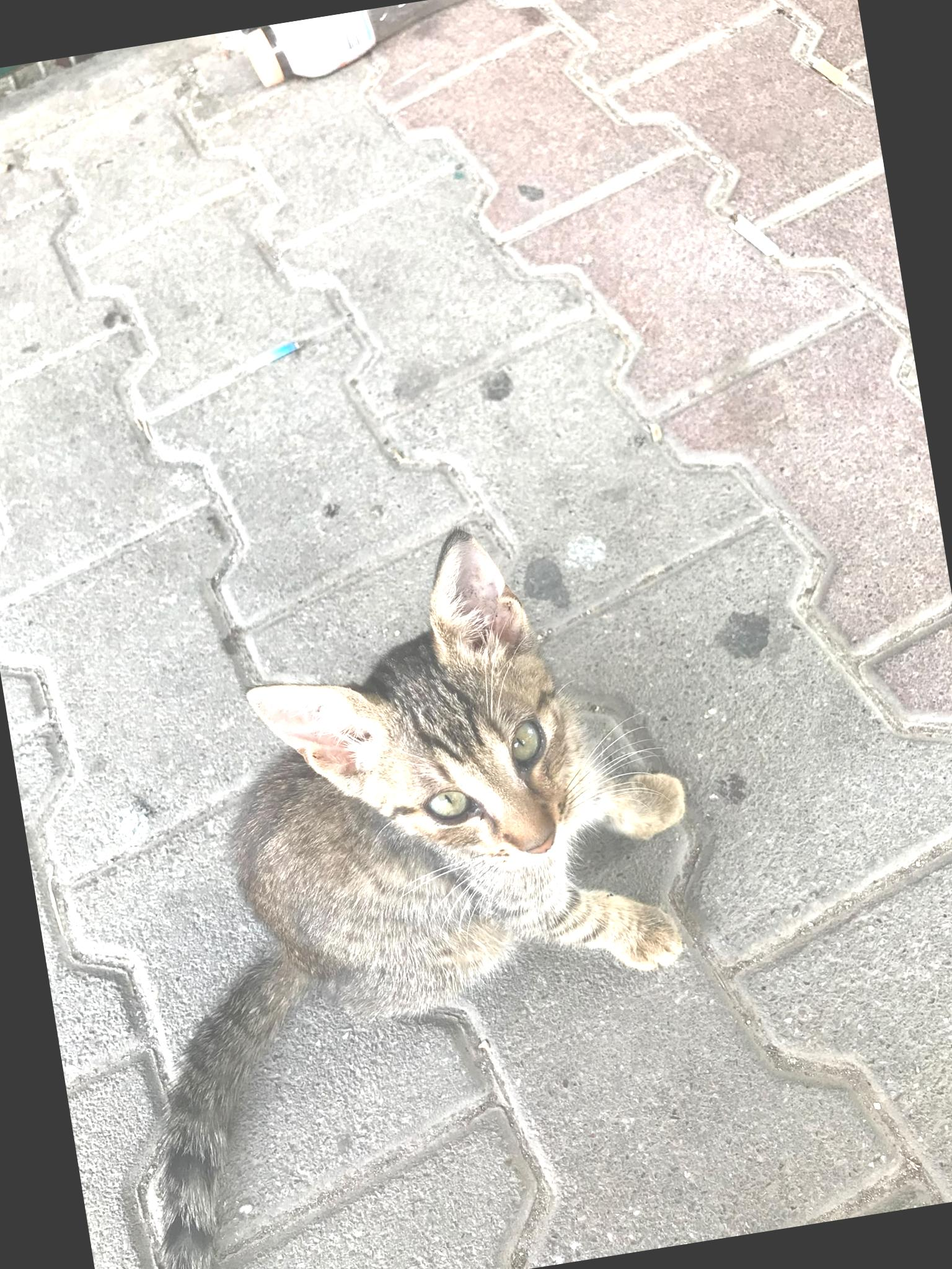macka: (37, 491, 759, 1269)
